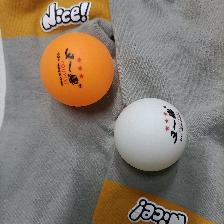WhiteBall: (113, 97, 188, 171)
YellowBall: (38, 32, 114, 106)
